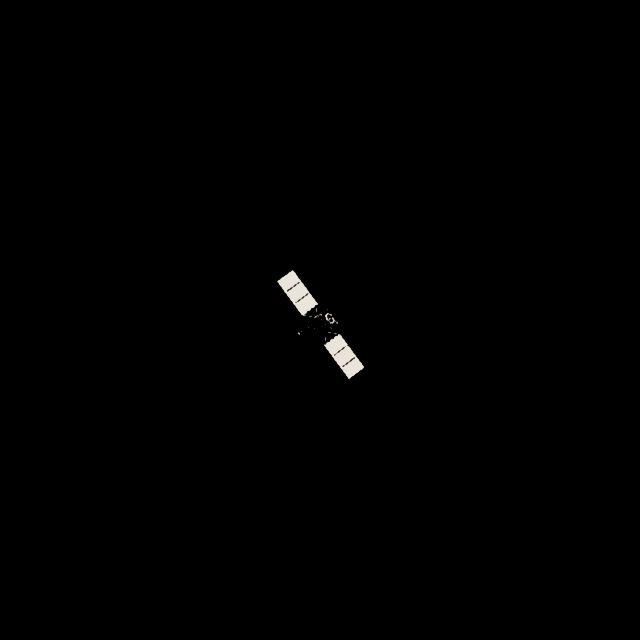satellite: (277, 271, 365, 381)
